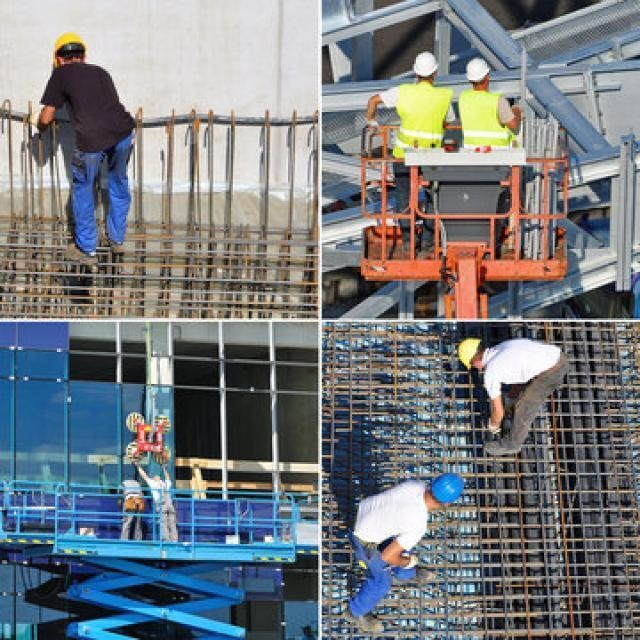Arnes_seguridad: (123, 495, 143, 510)
